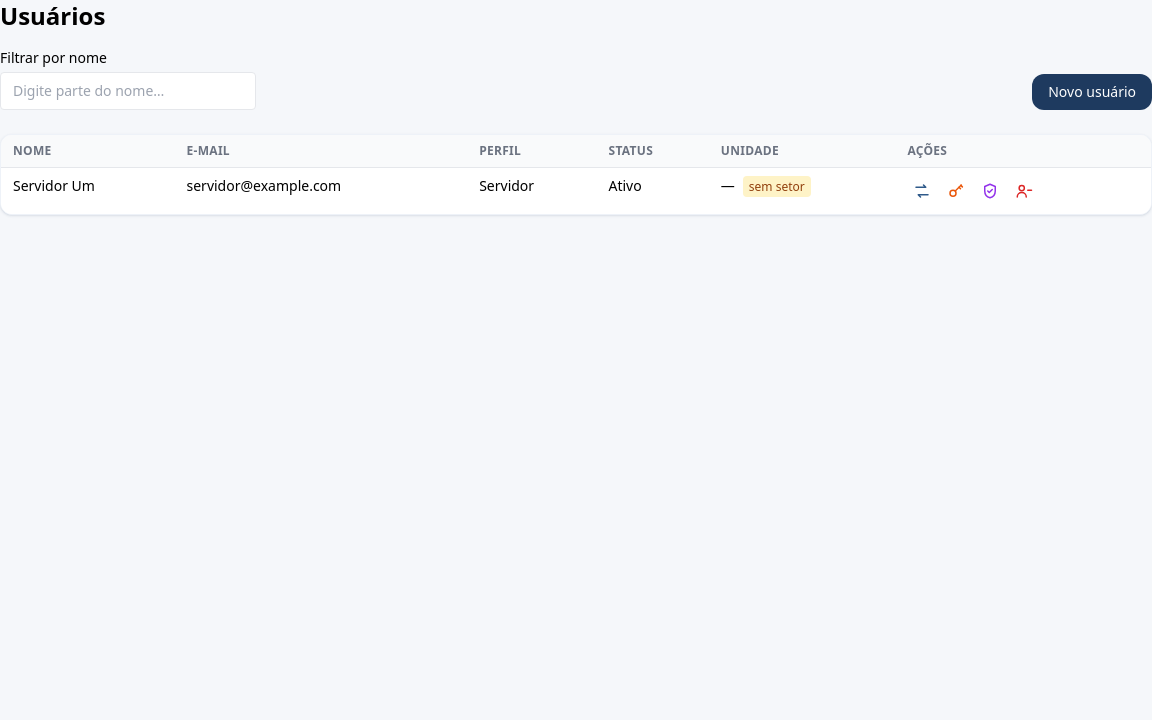
Test case: AdminUsuariosPage — ações de auditoria e desativação (US 8.3/8.4) › não renderiza formulário de cadastro no índice — só após abrir o modal (D6)
This screenshot has width=1152, height=720.
Expected: the text "Servidor Um" is shown, 1,168 -> 174,214
Click the button "Novo usuário" at {"x": 1092, "y": 92}, box 1032,74 -> 1151,110
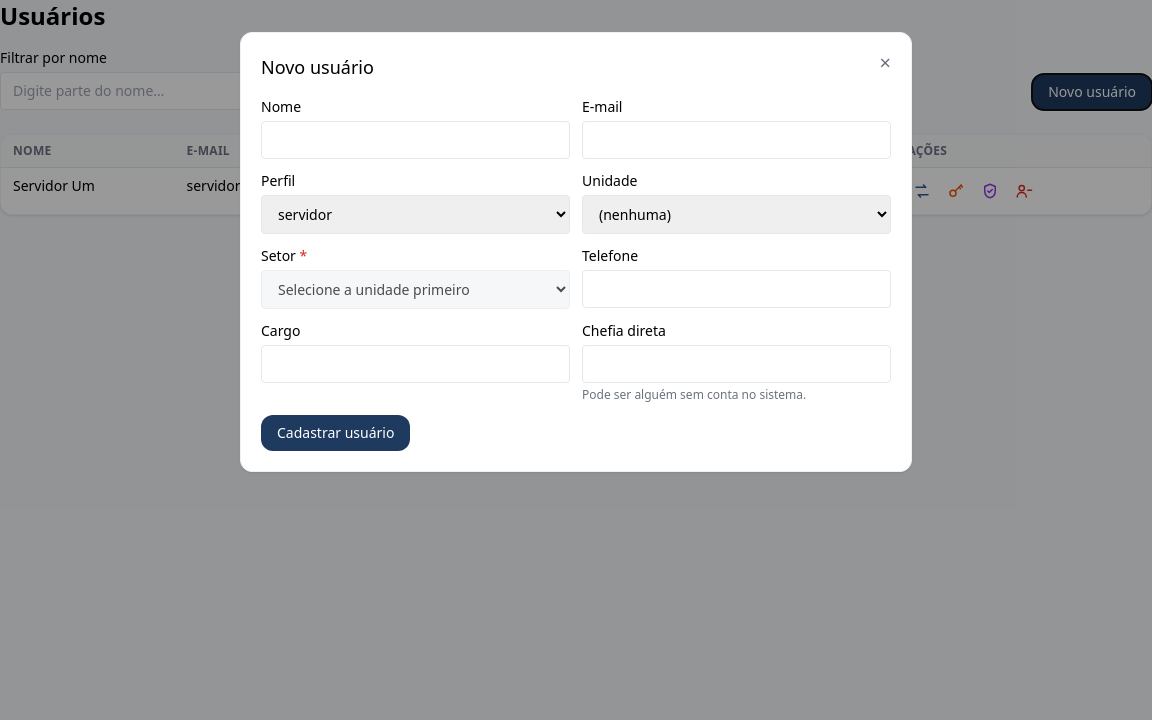
Expected: the field labelled "Telefone" is shown, 582,270 -> 891,308
Now the field labelled "E-mail" is shown, box 582,121 -> 891,159
